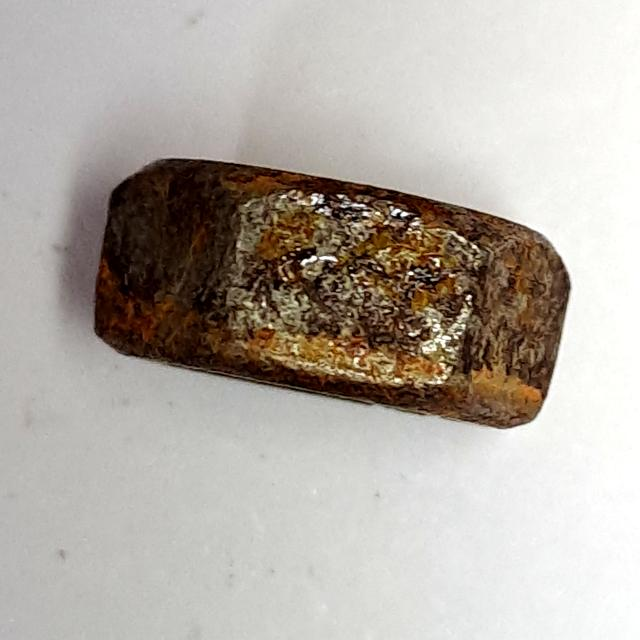Side_Rust: (75, 147, 588, 449)
